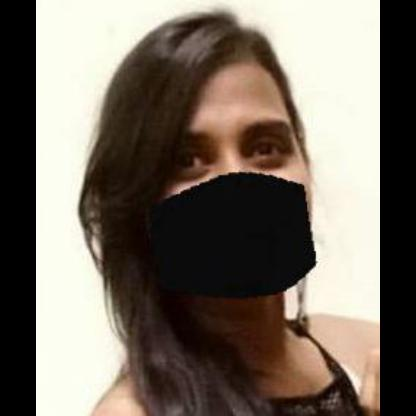Fabric/Cloth Mask: (145, 102, 312, 286)
